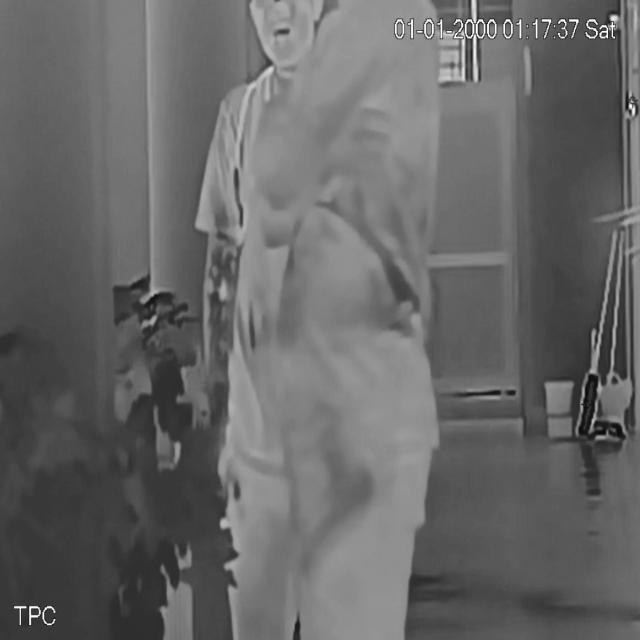Weapon: (299, 436, 383, 590)
